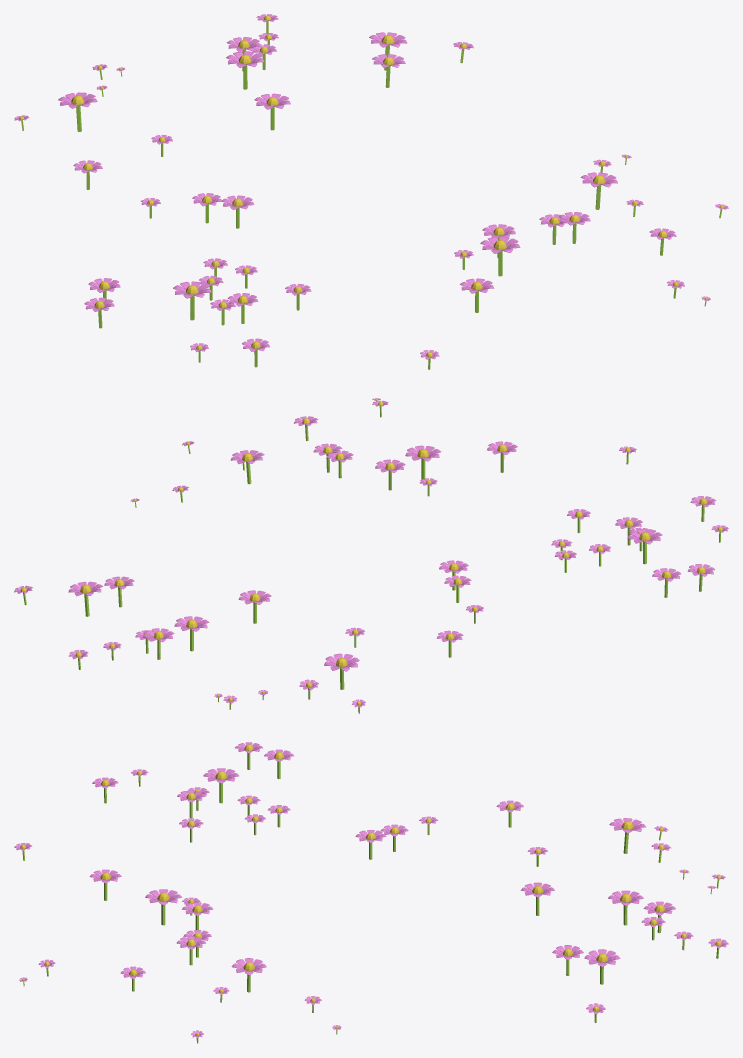
File: Flower.fbx
The picture shows the model from 3 angles, top to bottom: view 1: azimuth 30°, elevation 25°; view 2: azimuth 150°, elevation 25°; view 3: azimuth 270°, elevation 25°; orthographic projection. The views are drawn at different scales.
Parts seen in each view (by area): view 1: foloor.056, foloor.024, foloor.045, foloor.059; view 2: foloor.045, foloor.056; view 3: foloor.075, foloor.056.
Part boxes in pixels (box(x1,y1,x2,y2)): foloor.056: box(480, 236, 520, 276); foloor.024: box(173, 281, 211, 320); foloor.045: box(58, 92, 97, 131); foloor.059: box(226, 51, 264, 89); foloor.045: box(324, 653, 359, 689); foloor.056: box(405, 445, 441, 481); foloor.075: box(584, 949, 620, 984); foloor.056: box(145, 889, 182, 925).
Size of the model in its own units: 74.31 by 5.69 by 82.72.
